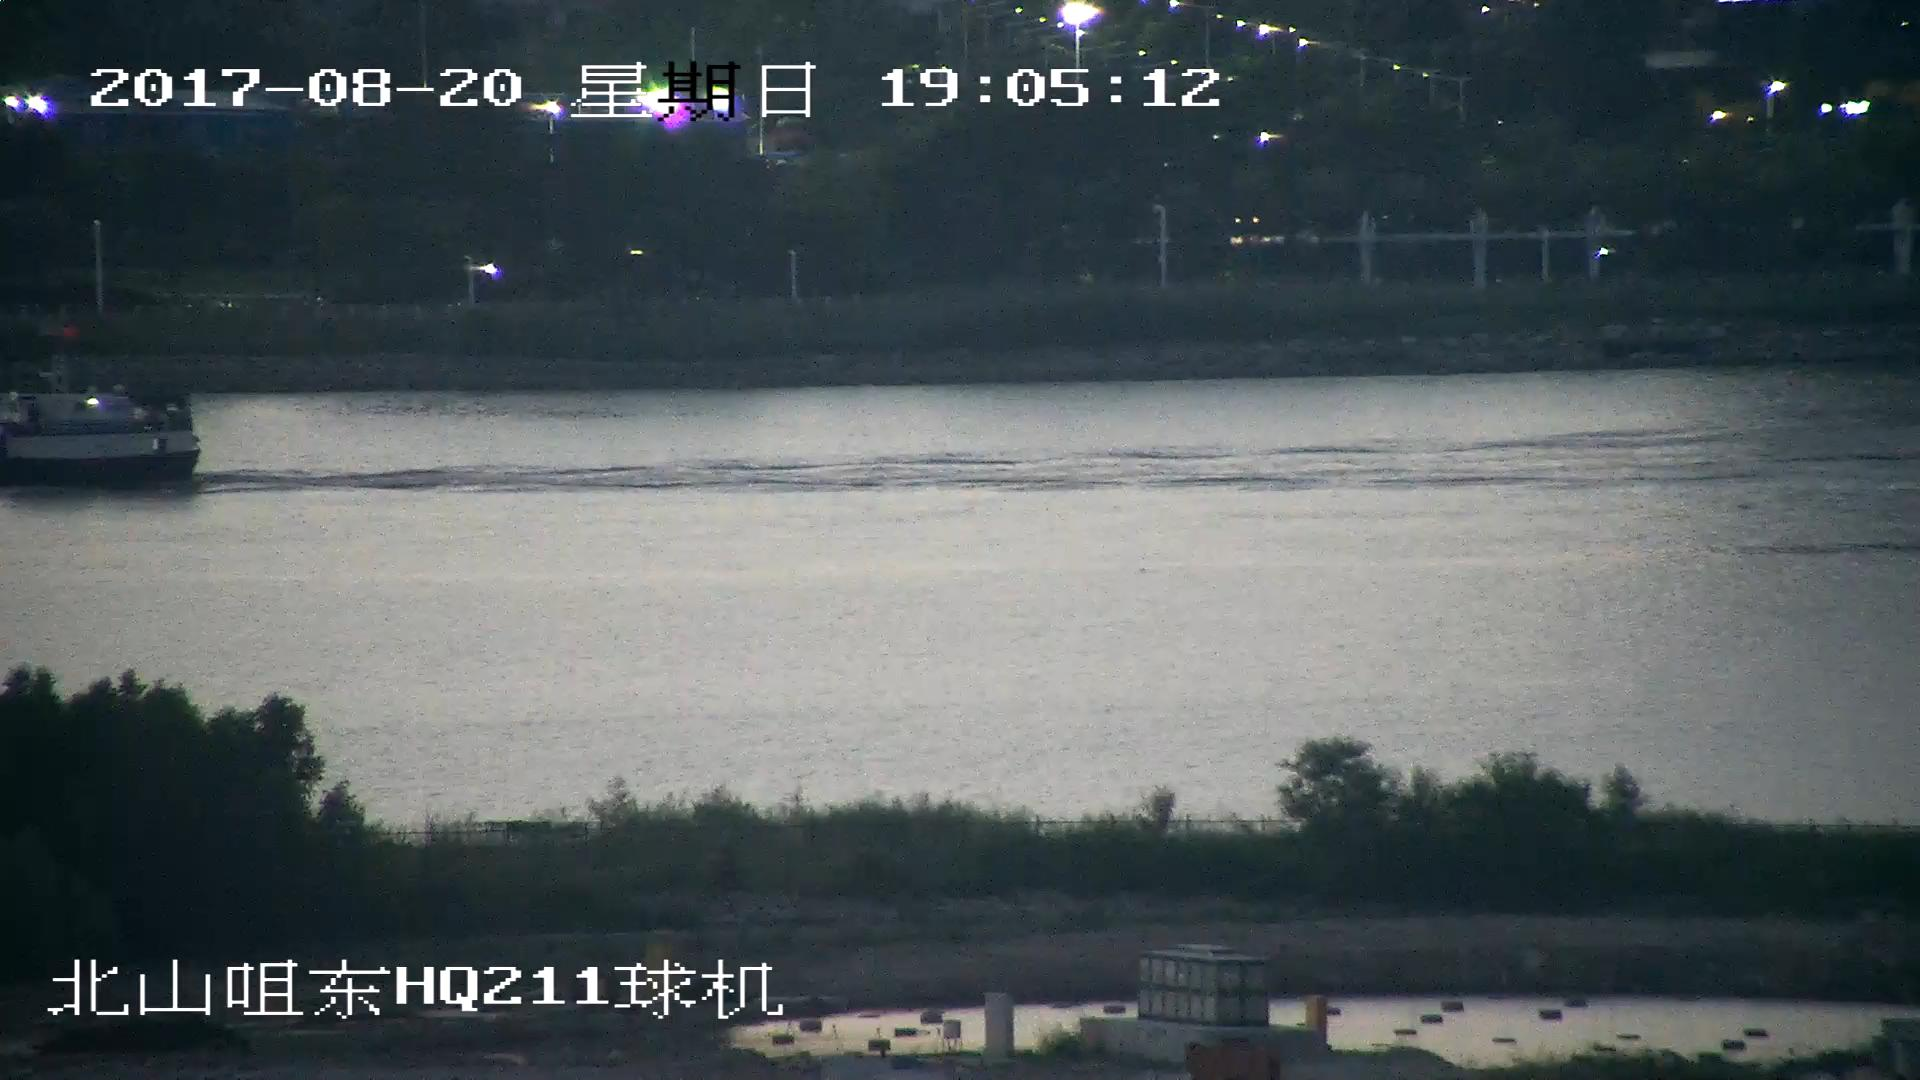fishing boat: (1, 357, 210, 487)
